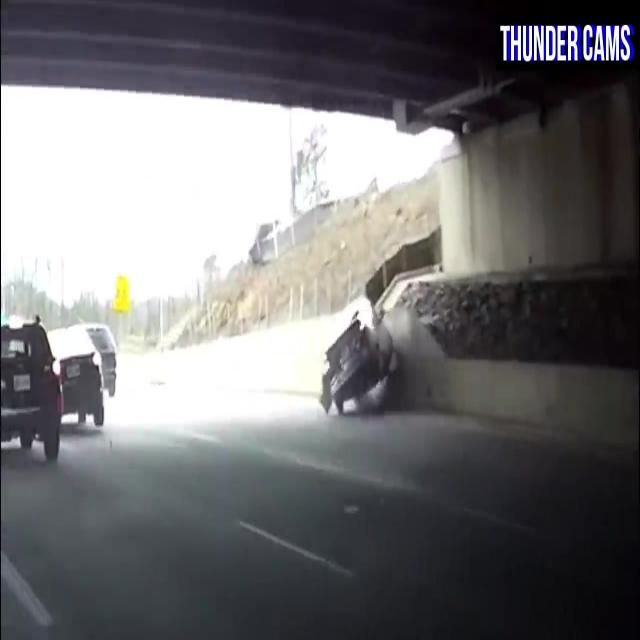accident: (309, 272, 409, 429)
